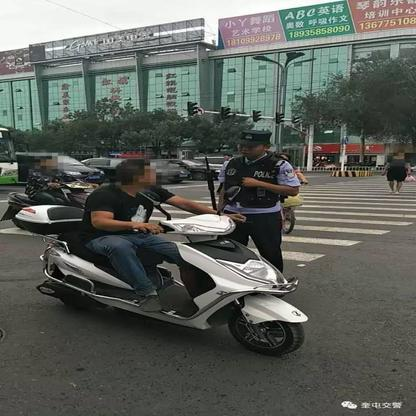target: (12, 160, 309, 359)
